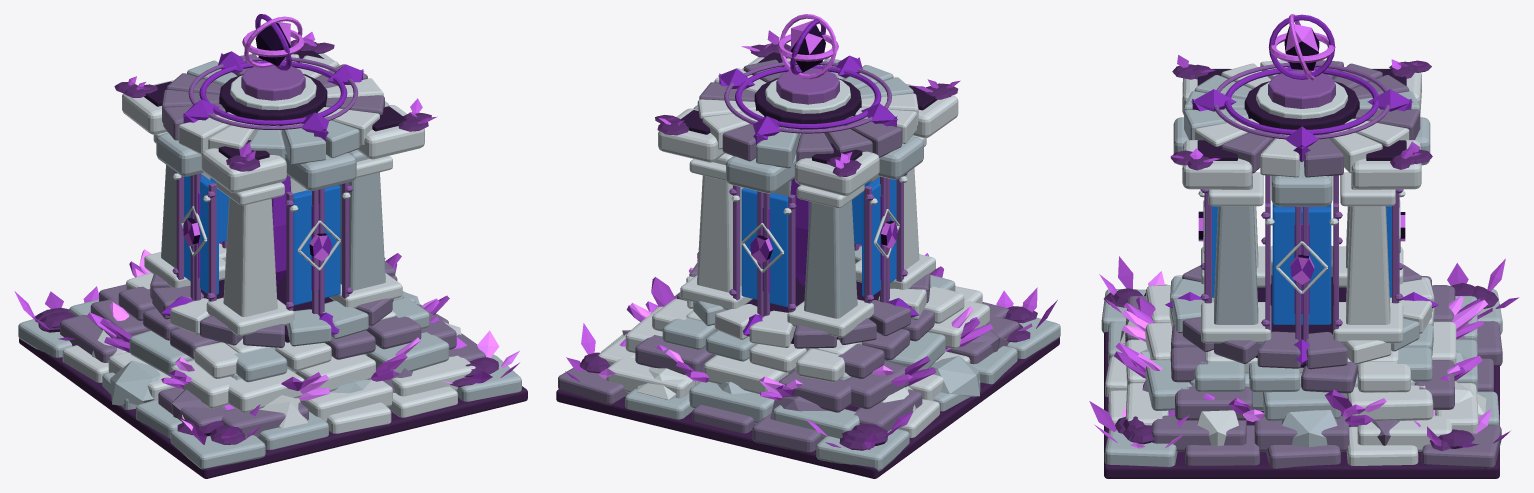
The model's file is darkness.fbx.
3 views of the same model, side by side, from view 1: azimuth 30°, elevation 25°; view 2: azimuth 150°, elevation 25°; view 3: azimuth 270°, elevation 25° (orthographic). The views are drawn at different scales.
Parts seen in each view (by area): view 1: Tower_Premium_Darkness_Stonework, Tower_Premium_Darkness_Trim, Tower_Premium_Darkness_Growth, Tower_Premium_Darkness_Core, Tower_Premium_Darkness_Foundation_Rocks, Tower_Premium_Darkness_Outer_Foliage, Tower_Premium_Darkness_Elemental_Gems; view 2: Tower_Premium_Darkness_Stonework, Tower_Premium_Darkness_Trim, Tower_Premium_Darkness_Growth, Tower_Premium_Darkness_Core, Tower_Premium_Darkness_Foundation_Rocks, Tower_Premium_Darkness_Outer_Foliage, Tower_Premium_Darkness_Elemental_Gems; view 3: Tower_Premium_Darkness_Stonework, Tower_Premium_Darkness_Trim, Tower_Premium_Darkness_Growth, Tower_Premium_Darkness_Core, Tower_Premium_Darkness_Outer_Foliage, Tower_Premium_Darkness_Elemental_Gems, Tower_Premium_Darkness_Foundation_Rocks.
Boxes of the visible parts, bbox=[...] form: Tower_Premium_Darkness_Stonework: bbox=[18, 53, 521, 469]; Tower_Premium_Darkness_Trim: bbox=[144, 50, 406, 342]; Tower_Premium_Darkness_Growth: bbox=[14, 32, 527, 478]; Tower_Premium_Darkness_Core: bbox=[161, 51, 385, 335]; Tower_Premium_Darkness_Foundation_Rocks: bbox=[91, 291, 461, 428]; Tower_Premium_Darkness_Outer_Foliage: bbox=[86, 249, 449, 400]; Tower_Premium_Darkness_Elemental_Gems: bbox=[183, 14, 332, 261]; Tower_Premium_Darkness_Stonework: bbox=[558, 57, 1060, 471]; Tower_Premium_Darkness_Trim: bbox=[680, 52, 951, 343]; Tower_Premium_Darkness_Growth: bbox=[556, 30, 1059, 478]; Tower_Premium_Darkness_Core: bbox=[697, 55, 918, 336]; Tower_Premium_Darkness_Foundation_Rocks: bbox=[622, 297, 1000, 419]; Tower_Premium_Darkness_Outer_Foliage: bbox=[626, 252, 993, 400]; Tower_Premium_Darkness_Elemental_Gems: bbox=[750, 14, 897, 263]; Tower_Premium_Darkness_Stonework: bbox=[1101, 60, 1502, 468]; Tower_Premium_Darkness_Trim: bbox=[1197, 63, 1413, 367]; Tower_Premium_Darkness_Growth: bbox=[1089, 55, 1519, 478]; Tower_Premium_Darkness_Core: bbox=[1165, 62, 1438, 364]; Tower_Premium_Darkness_Outer_Foliage: bbox=[1114, 296, 1487, 425]; Tower_Premium_Darkness_Elemental_Gems: bbox=[1198, 14, 1405, 284]; Tower_Premium_Darkness_Foundation_Rocks: bbox=[1120, 320, 1486, 447].
Size of the model in its own units: 405 by 413 by 425.
